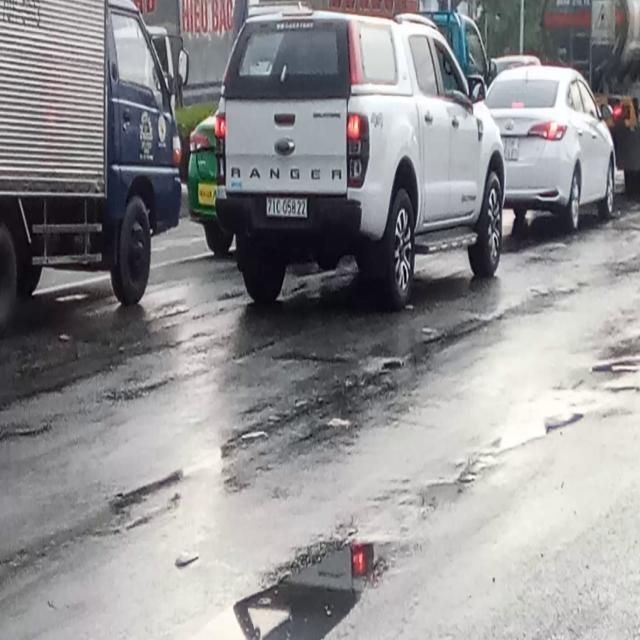bien_trang: (268, 196, 309, 217)
